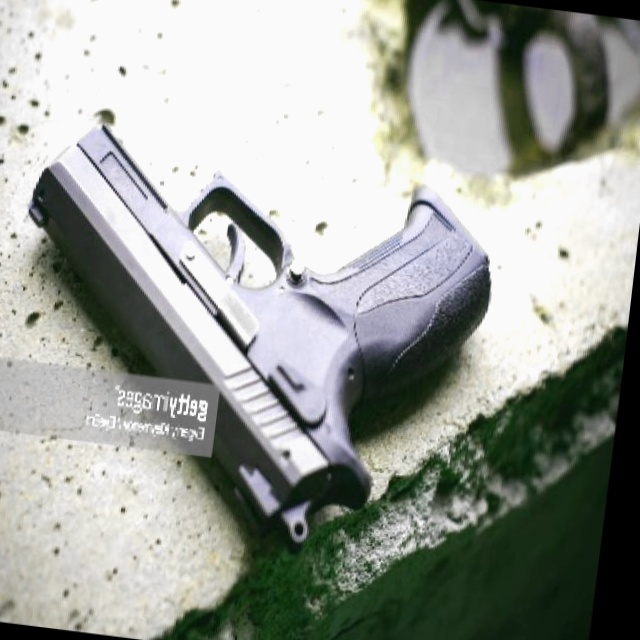gun: (0, 99, 507, 565)
